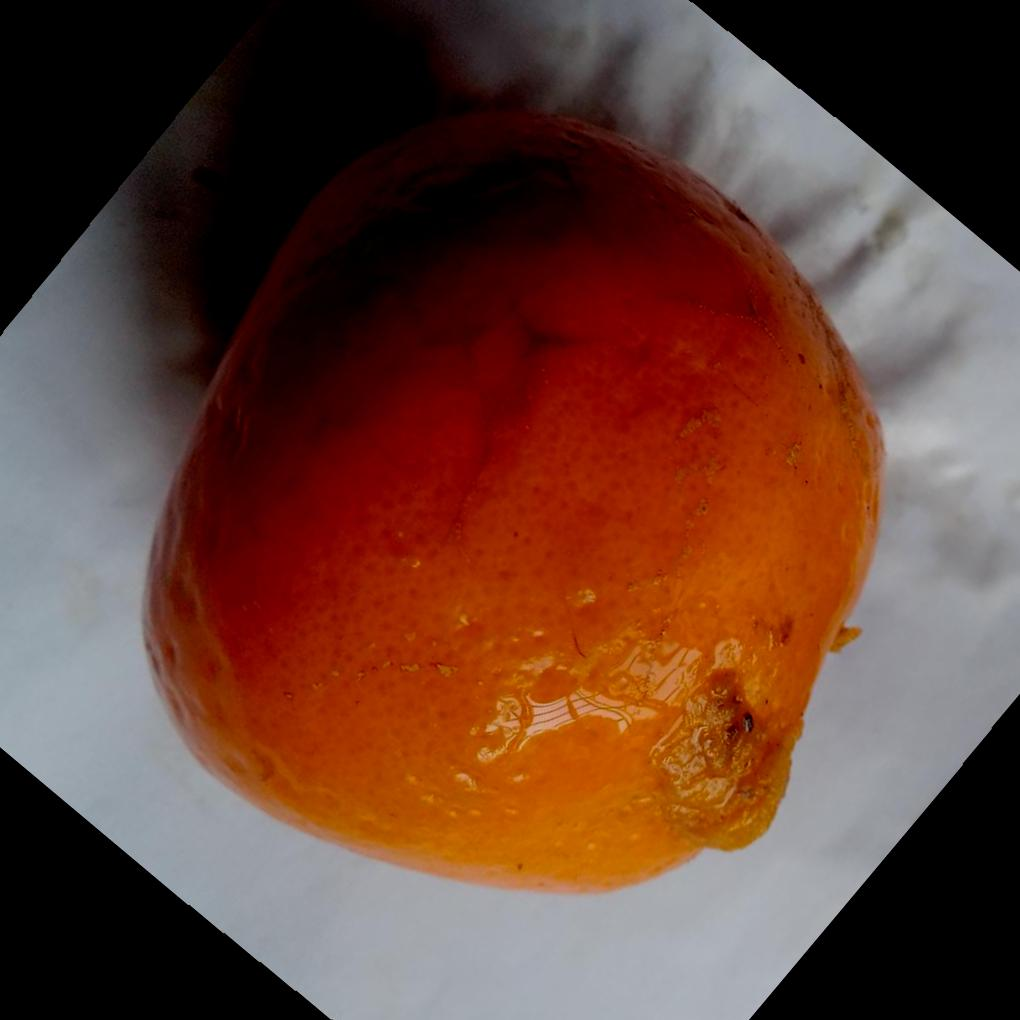FreshOrange: (138, 107, 883, 898)
